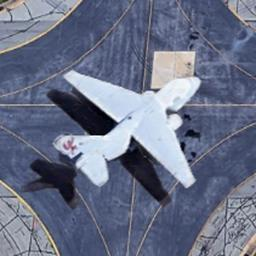Airplane: (36, 72, 205, 206)
